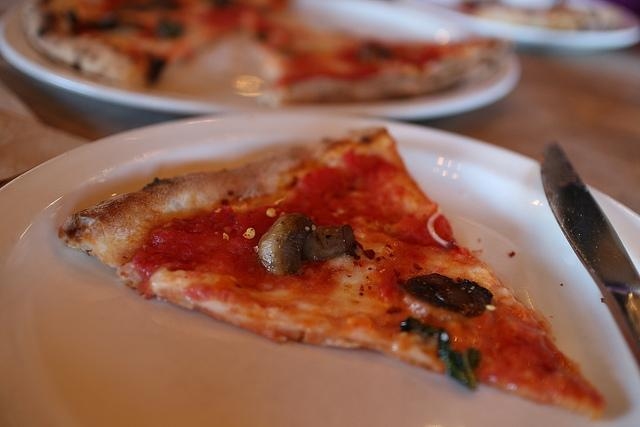mushroom: (258, 212, 356, 275), (406, 274, 492, 316), (357, 44, 394, 61), (72, 23, 91, 33)
